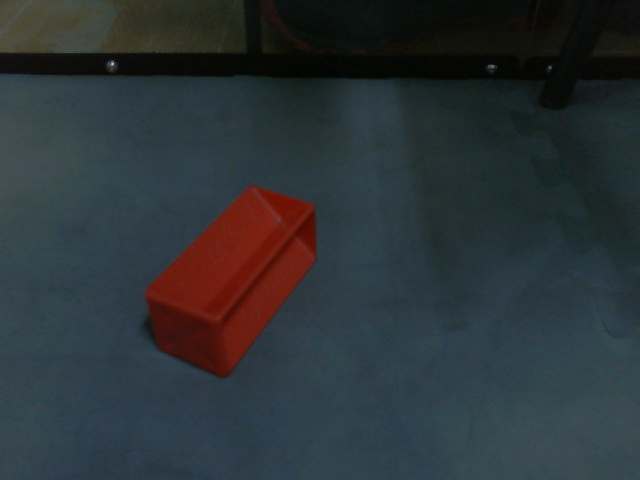RedSample: (142, 183, 318, 382)
